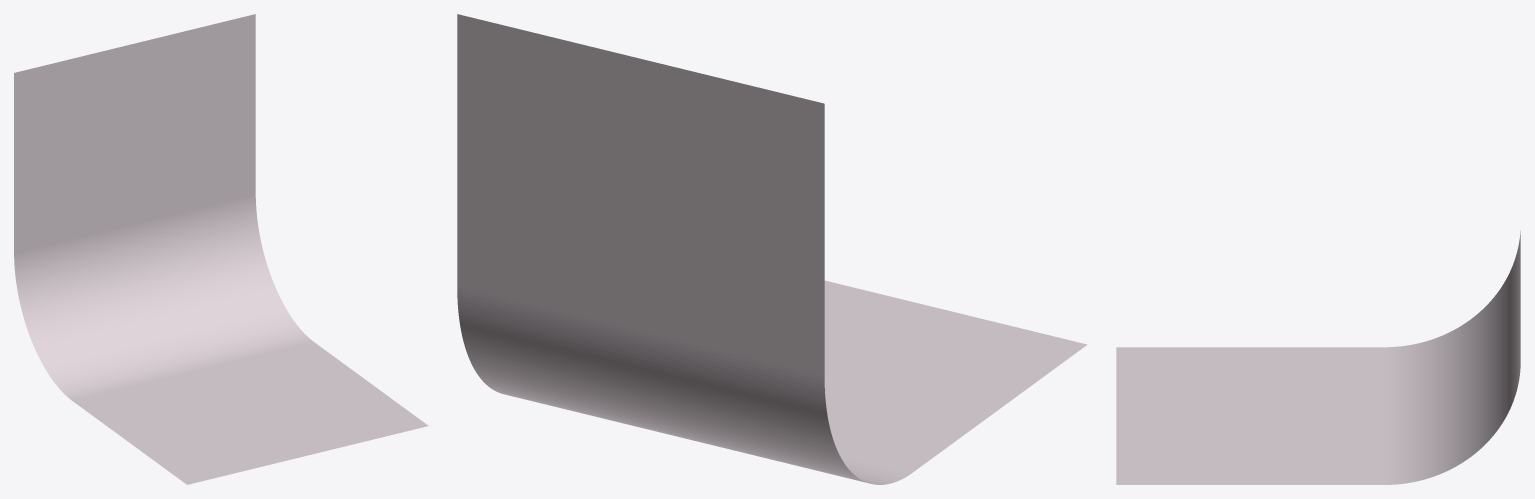
The model's file is PozadinaSobe.fbx.
3 views of the same model, side by side, from view 1: azimuth 30°, elevation 25°; view 2: azimuth 150°, elevation 25°; view 3: azimuth 270°, elevation 25° (orthographic). The views are drawn at different scales.
Visible parts, largest first — view 1: Plane; view 2: Plane; view 3: Plane.
Boxes of the visible parts, left/top/right/bottom form: Plane: left=14, top=14, right=428, bottom=484; Plane: left=457, top=14, right=1087, bottom=484; Plane: left=1116, top=231, right=1520, bottom=484.
Size of the model in its own units: 12640 by 14257 by 15682.
Materials: 1 (1 with a texture image).
